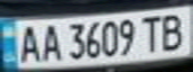0: (100, 17, 121, 57)
3: (63, 19, 84, 61)
6: (81, 18, 103, 60)
9: (115, 16, 139, 56)
A: (12, 21, 42, 63), (36, 21, 63, 62)
B: (154, 10, 190, 52)
T: (136, 12, 166, 53)
